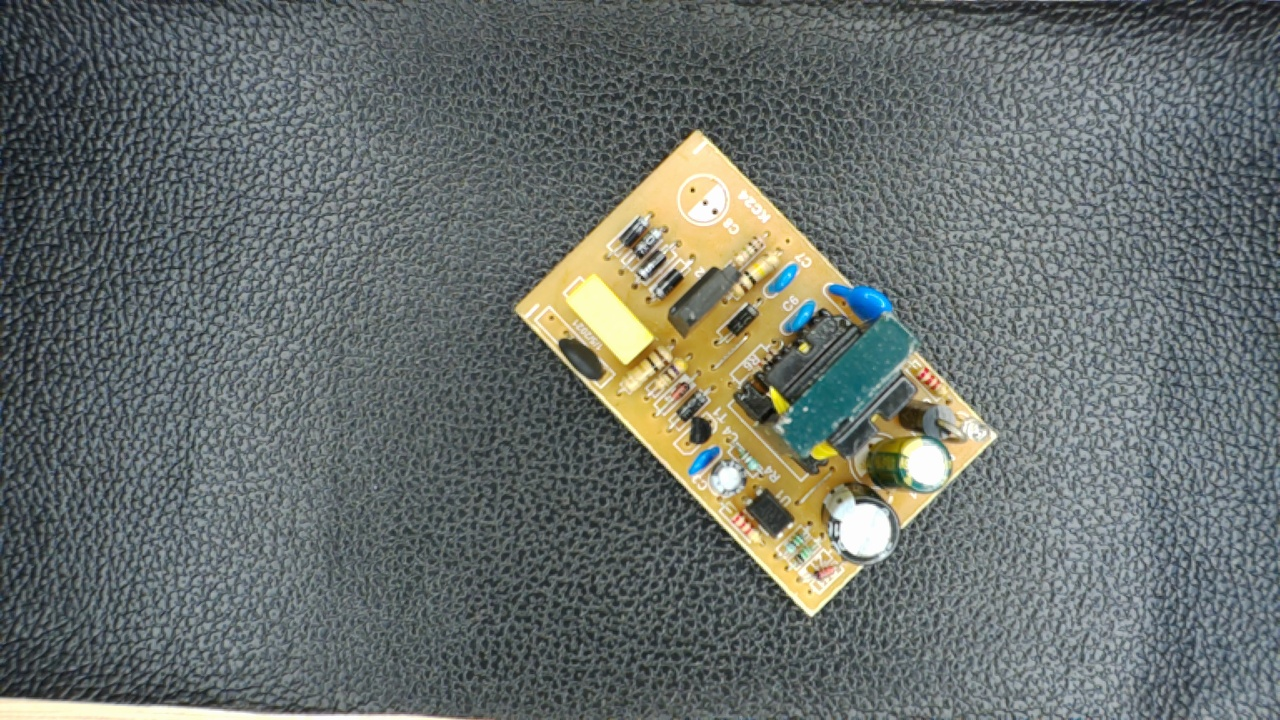fuse: (548, 323, 614, 387)
mov: (824, 270, 899, 329)
optocoupler: (738, 482, 798, 542)
